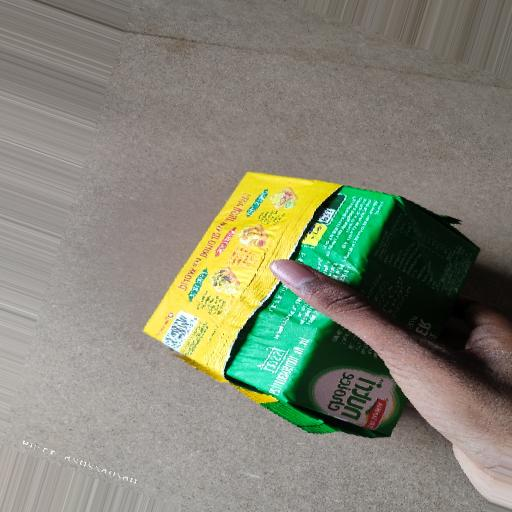Britannia Nutri-choice: (140, 166, 488, 457)
